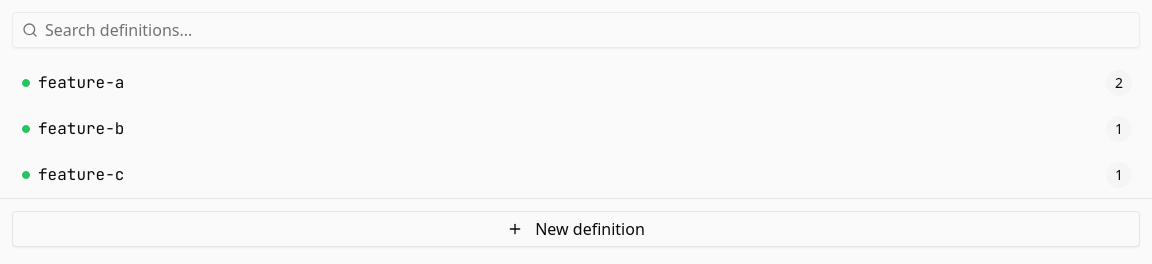
Test: DefinitionList › should show empty state when no definitions match search
Type "nonexistent" into the field with placeholder "Search definitions...".
click(576, 30); type("nonexistent")  # box [12,12,1140,48]
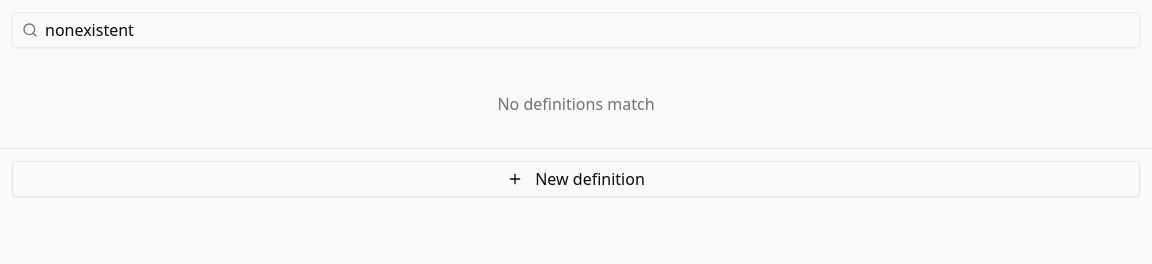
Expected: the text "No definitions match" is shown, [498,93,655,115]
